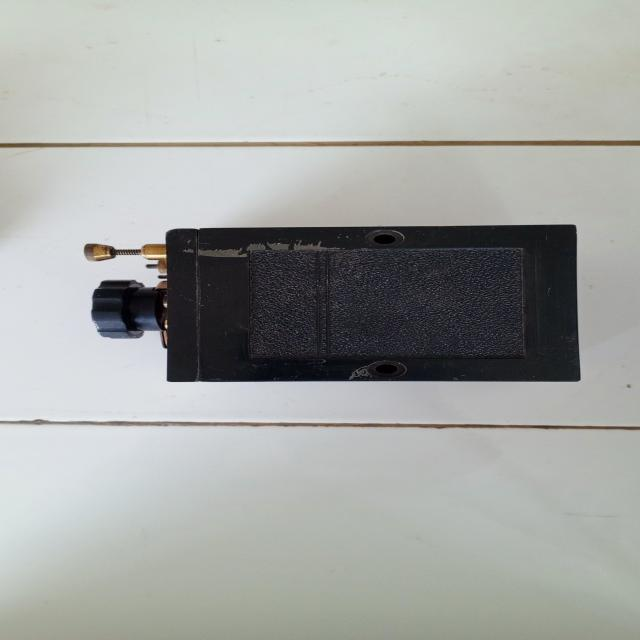Set of Resistances: (62, 210, 640, 400)
